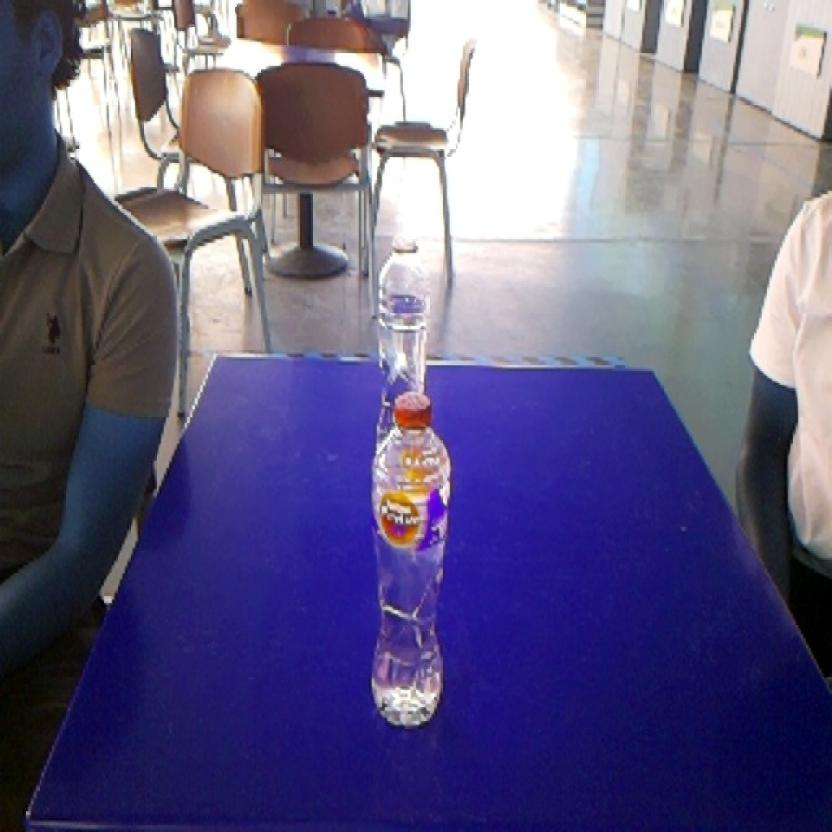good: (358, 380, 463, 734)
no_cap: (370, 225, 439, 370)
